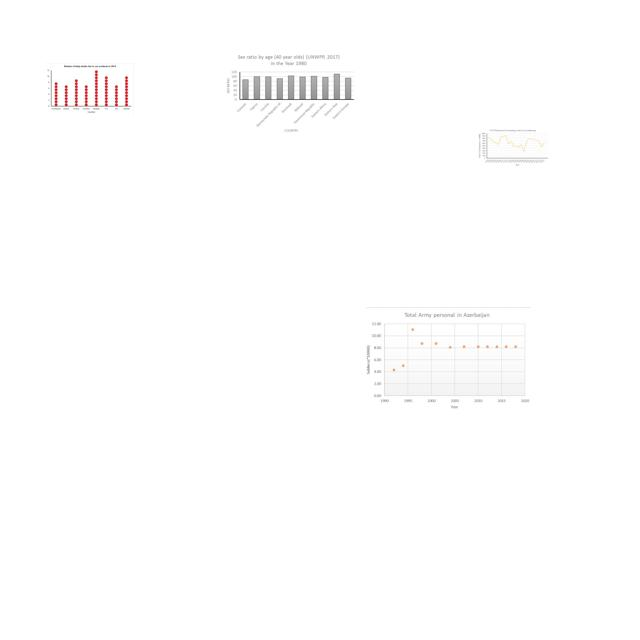Graph: (366, 307, 531, 412), (224, 53, 356, 135), (46, 63, 134, 116), (477, 128, 549, 166)
